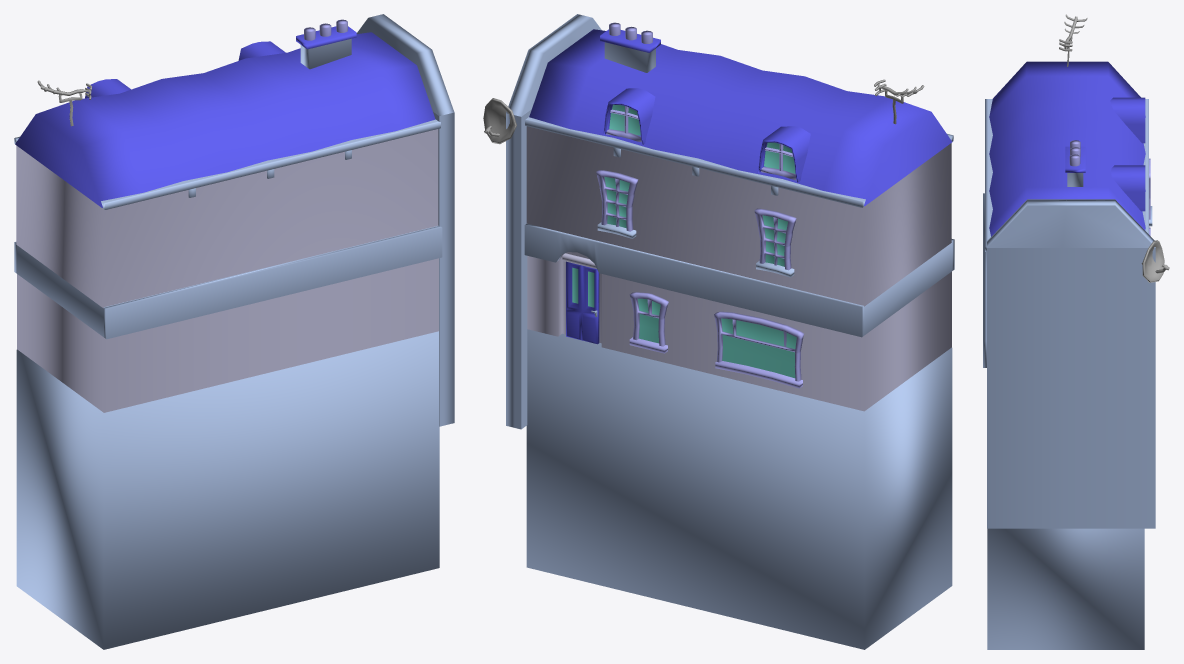
The model's file is Building_A_Test_2.fbx.
3 views of the same model, side by side, from view 1: azimuth 30°, elevation 25°; view 2: azimuth 150°, elevation 25°; view 3: azimuth 270°, elevation 25° (orthographic). The views are drawn at different scales.
Parts seen in each view (by area): view 1: Building_A_Test_2; view 2: Building_A_Test_2; view 3: Building_A_Test_2.
Boxes of the visible parts, x1,y1,x2,y2 form: Building_A_Test_2: (14, 14, 454, 649); Building_A_Test_2: (483, 14, 954, 649); Building_A_Test_2: (983, 14, 1169, 649).
Size of the model in its own units: 1094 by 1412 by 497.
